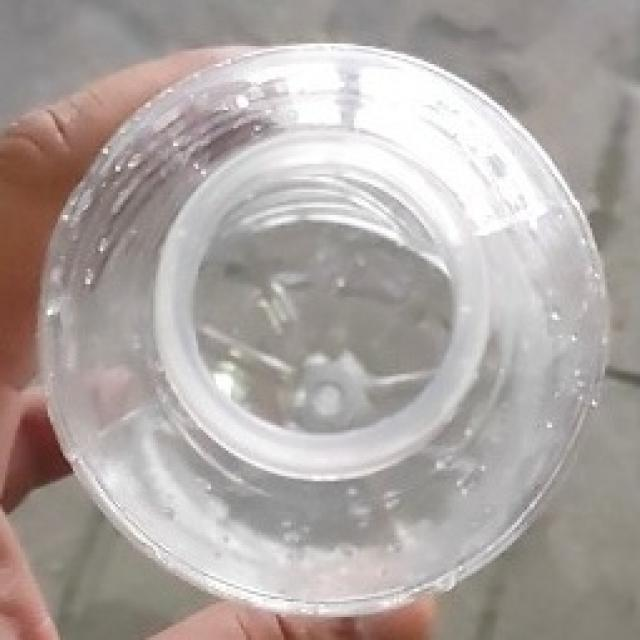plastic_bottle: (37, 44, 612, 618)
